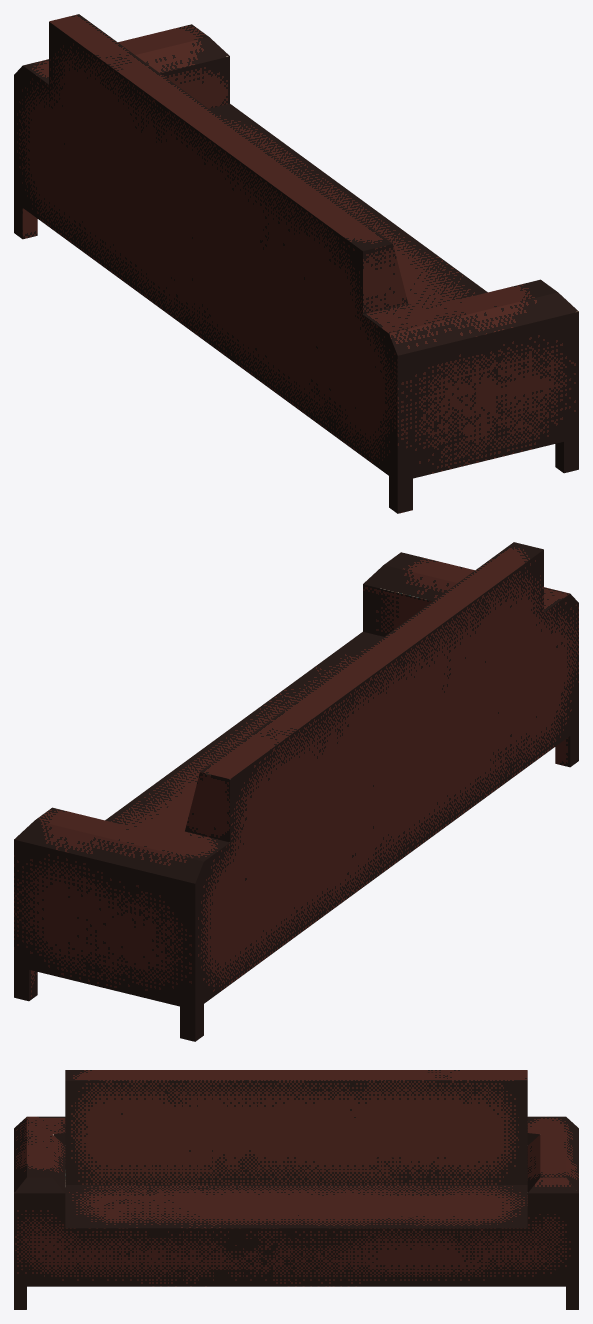
Rendered from sofa.glb.
3 renders of one model, top to bottom at view 1: azimuth 30°, elevation 25°; view 2: azimuth 150°, elevation 25°; view 3: azimuth 270°, elevation 25°, orthographic. The views are drawn at different scales.
Visible parts, largest first — view 1: sofa-col; view 2: sofa-col; view 3: sofa-col.
Boxes of the visible parts, x1,y1,x2,y2 form: sofa-col: (14, 14, 578, 513); sofa-col: (14, 542, 578, 1041); sofa-col: (14, 1070, 578, 1309).
Size of the model in its own units: 0.6 by 0.75 by 2.2.
Materials: 1 (1 with a texture image).
